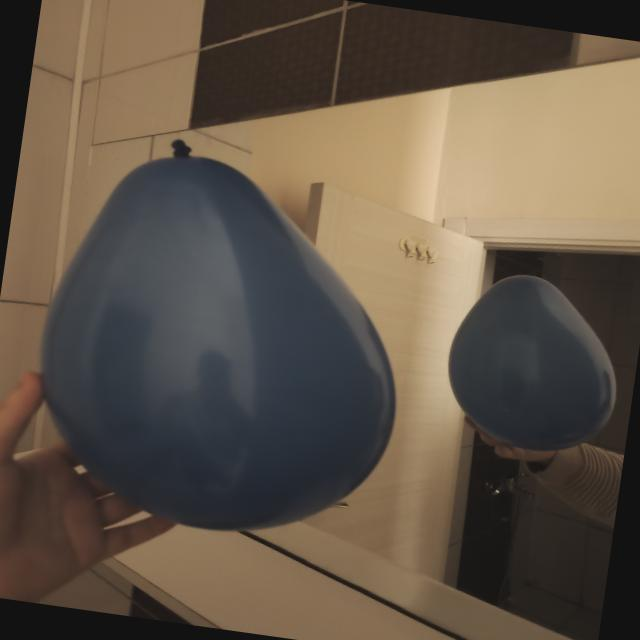balloon: (42, 150, 395, 530)
